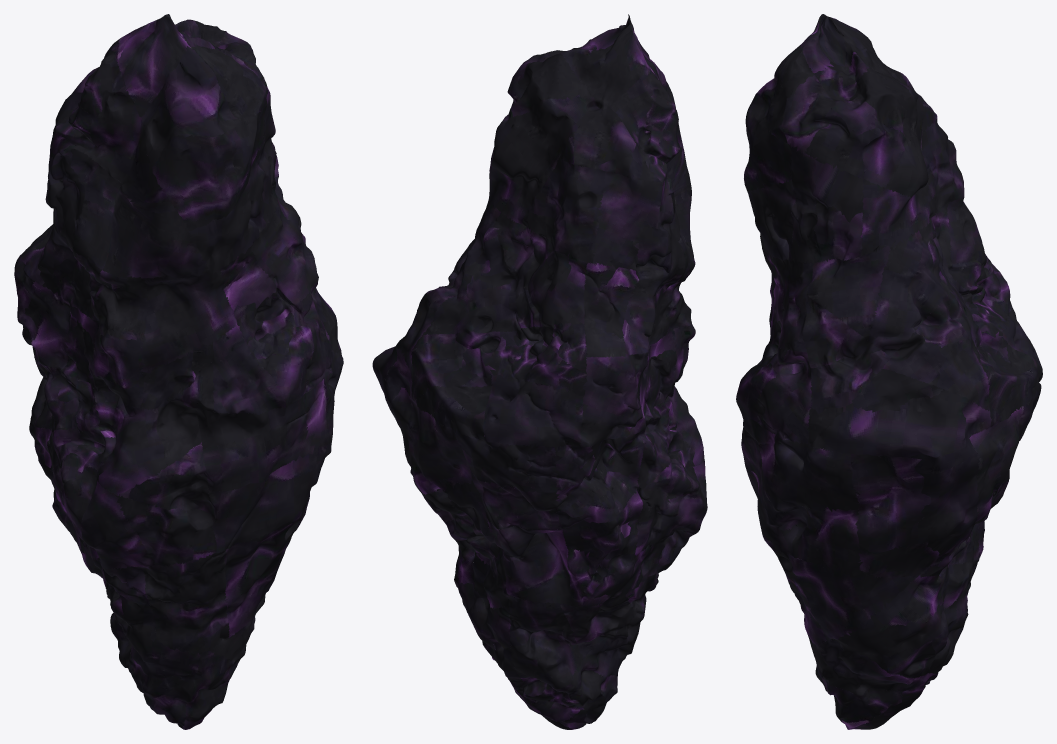
File: shard-02-low.glb
The picture shows the model from 3 angles, left to right: view 1: azimuth 30°, elevation 25°; view 2: azimuth 150°, elevation 25°; view 3: azimuth 270°, elevation 25°; orthographic projection. The views are drawn at different scales.
Parts seen in each view (by area): view 1: Onyx_Shard_Web.001; view 2: Onyx_Shard_Web.001; view 3: Onyx_Shard_Web.001.
Part boxes in pixels (x1=…): Onyx_Shard_Web.001: x1=14, y1=14, x2=343, y2=729; Onyx_Shard_Web.001: x1=372, y1=14, x2=707, y2=729; Onyx_Shard_Web.001: x1=736, y1=14, x2=1042, y2=729.
Bounding box in the file's own units: 0.8135 × 1.95 × 0.7749.
1 material, 1 textured.
